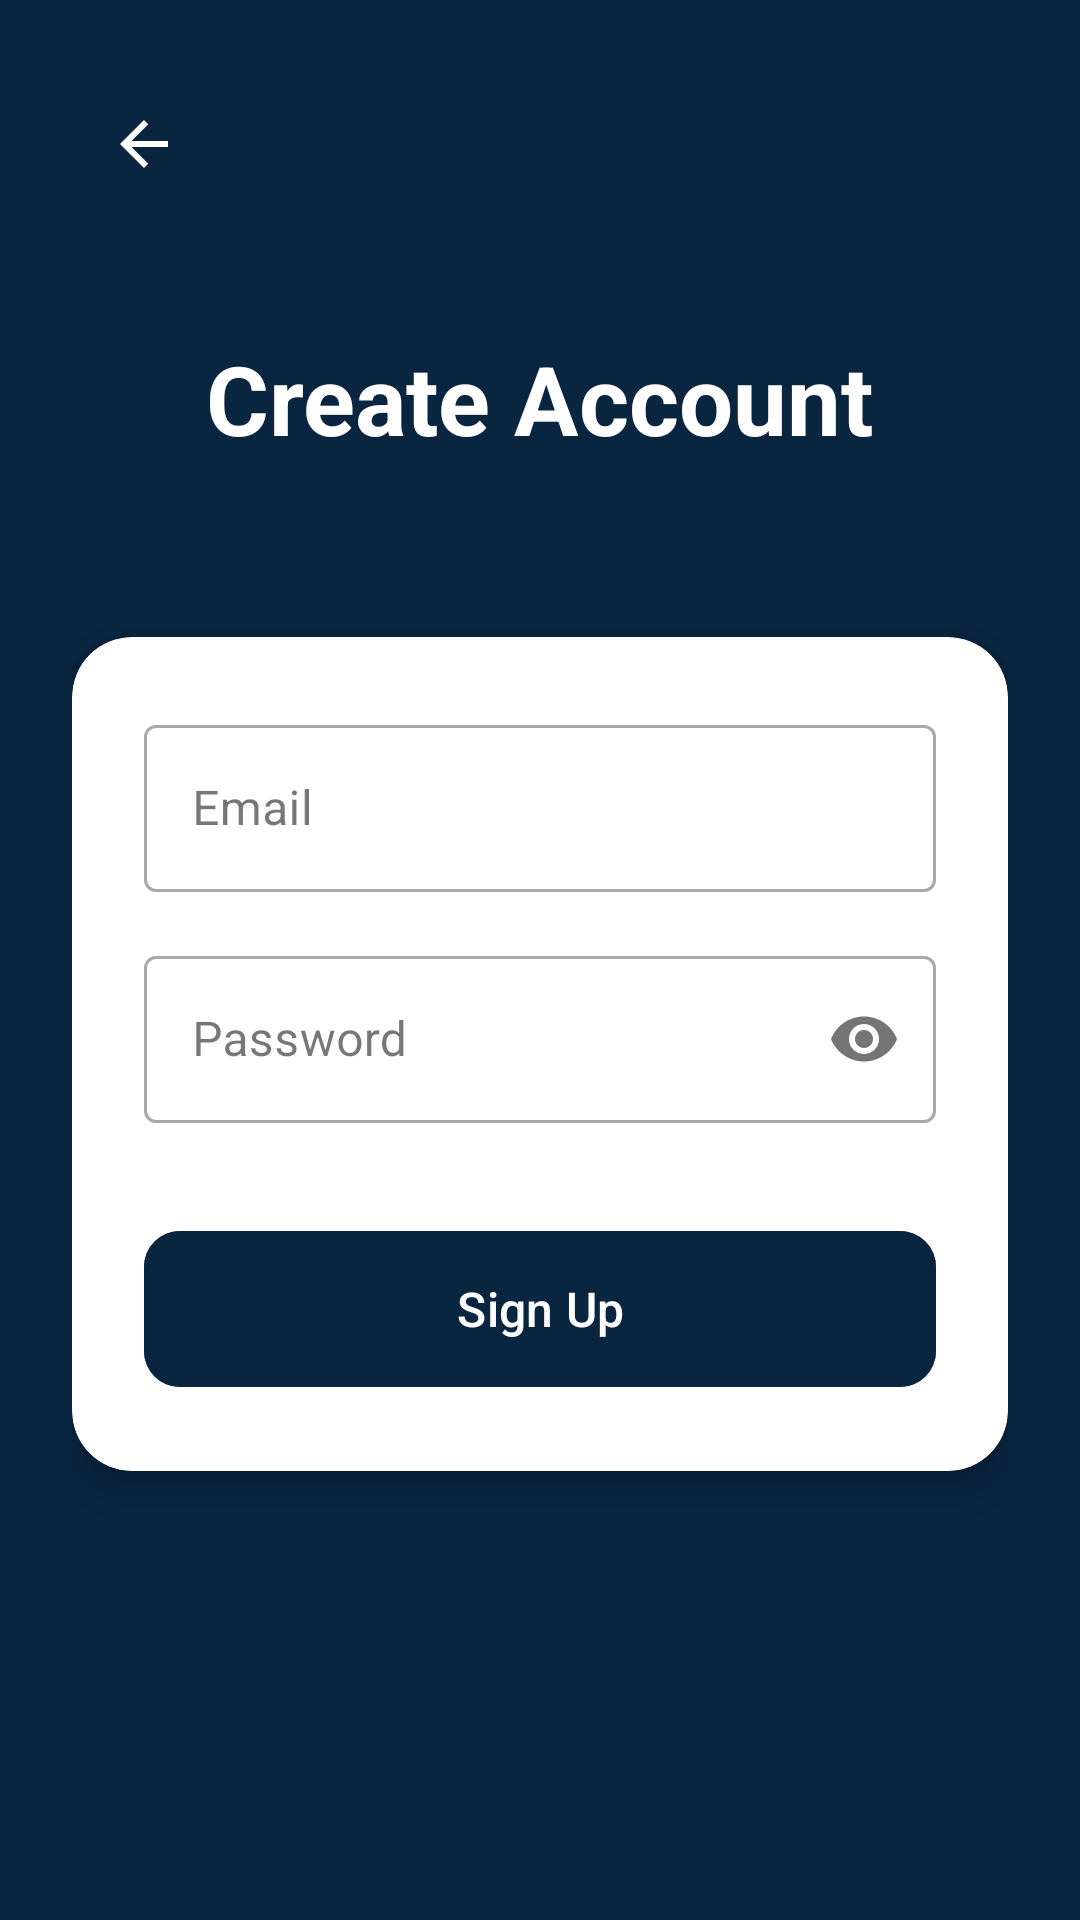

Icons on this 1080*1920 Android screen, each with its box as bbox=[x1, y1, x2, y2]:
back arrow: bbox=[120, 120, 168, 168]
